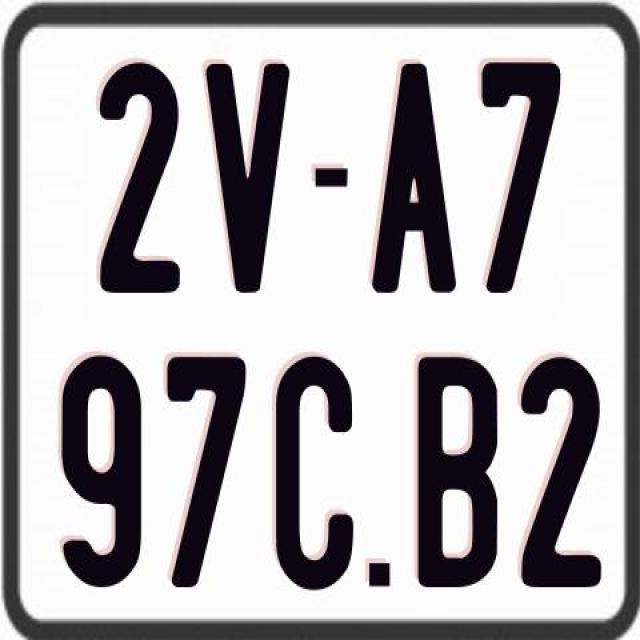2: (520, 352, 608, 586), (96, 59, 183, 293)
7: (164, 353, 248, 592), (479, 62, 562, 298)
9: (57, 351, 143, 584)
A: (371, 64, 462, 301)
B: (418, 353, 498, 584)
C: (276, 354, 358, 590)
V: (201, 59, 288, 291)
